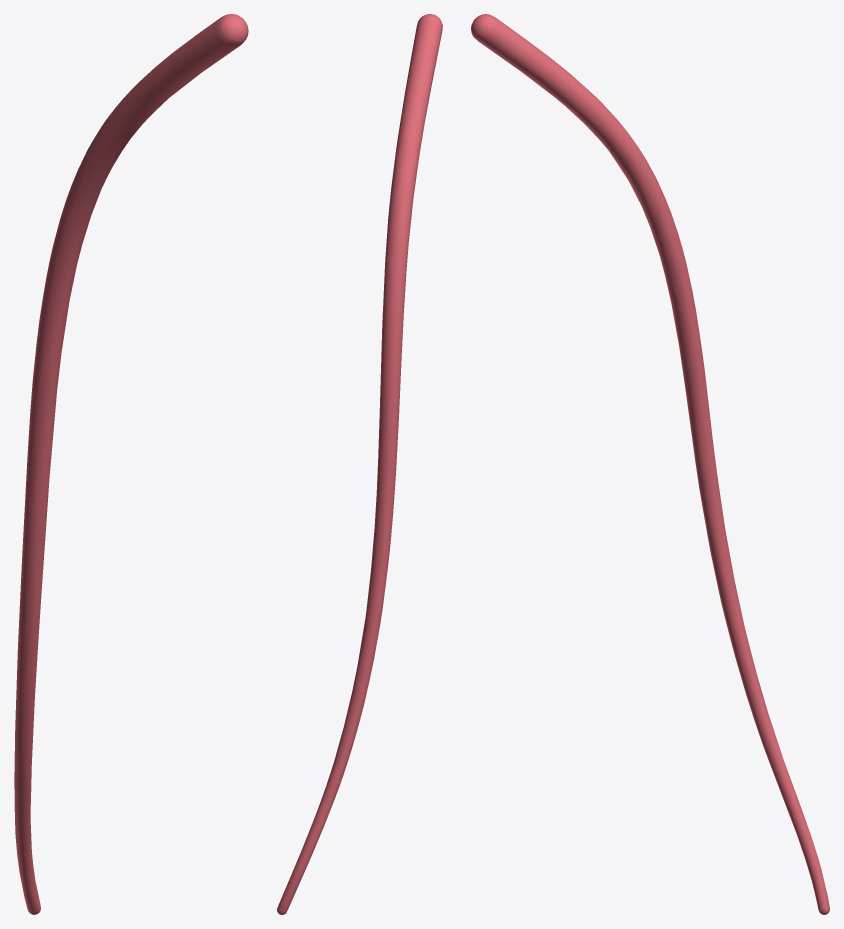
Rendered from fma22708_fj2374.glb.
3 renders of one model, left to right at view 1: azimuth 30°, elevation 25°; view 2: azimuth 150°, elevation 25°; view 3: azimuth 270°, elevation 25°, orthographic. The views are drawn at different scales.
Parts seen in each view (by area): view 1: FMA22708_FJ2374; view 2: FMA22708_FJ2374; view 3: FMA22708_FJ2374.
Boxes of the visible parts, left/top/right/bottom form: FMA22708_FJ2374: left=14, top=14, right=248, bottom=914; FMA22708_FJ2374: left=277, top=14, right=442, bottom=914; FMA22708_FJ2374: left=471, top=14, right=829, bottom=914.
Bounding box in the file's own units: 0.00765 × 0.0824 × 0.0298.
